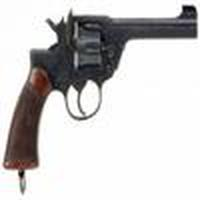gun: (5, 8, 200, 185)
